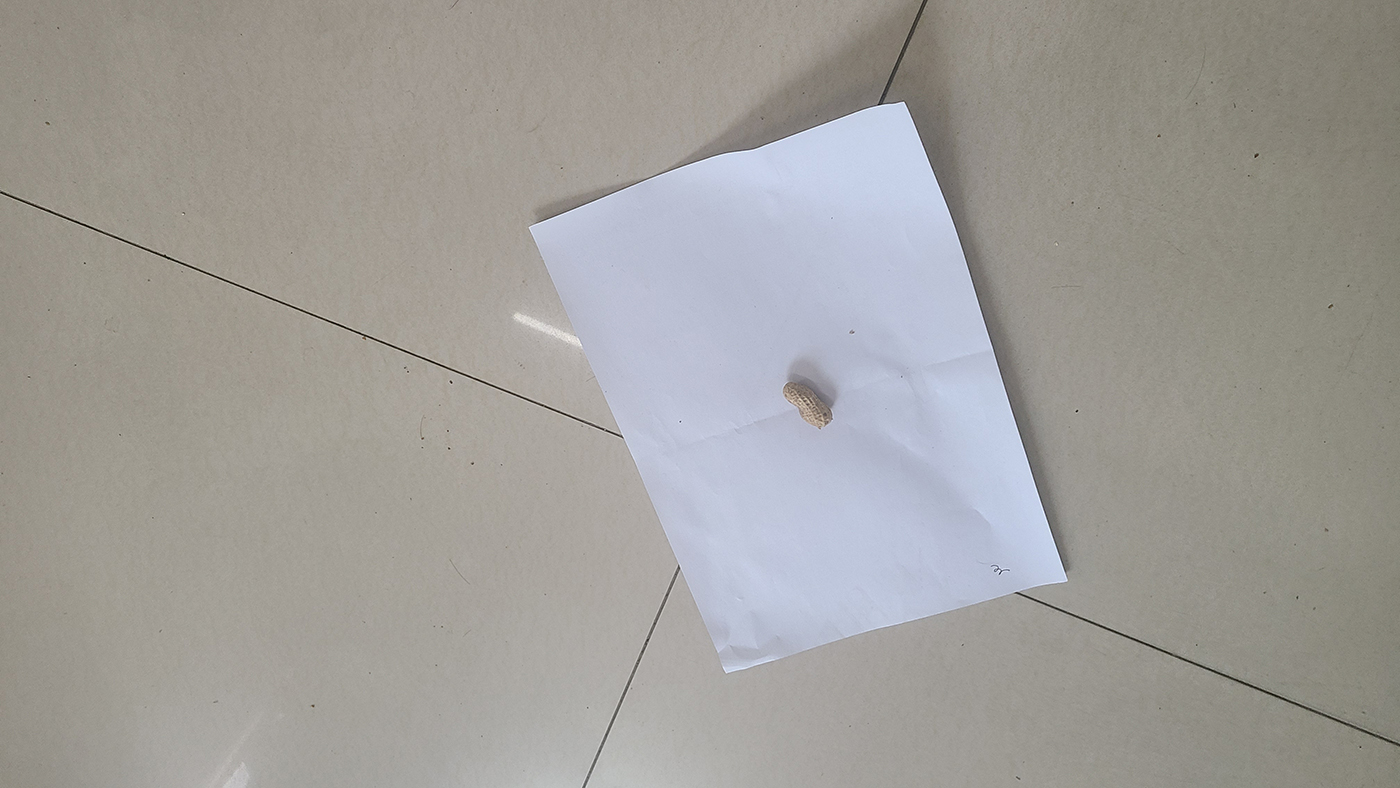h: (782, 381, 834, 427)
